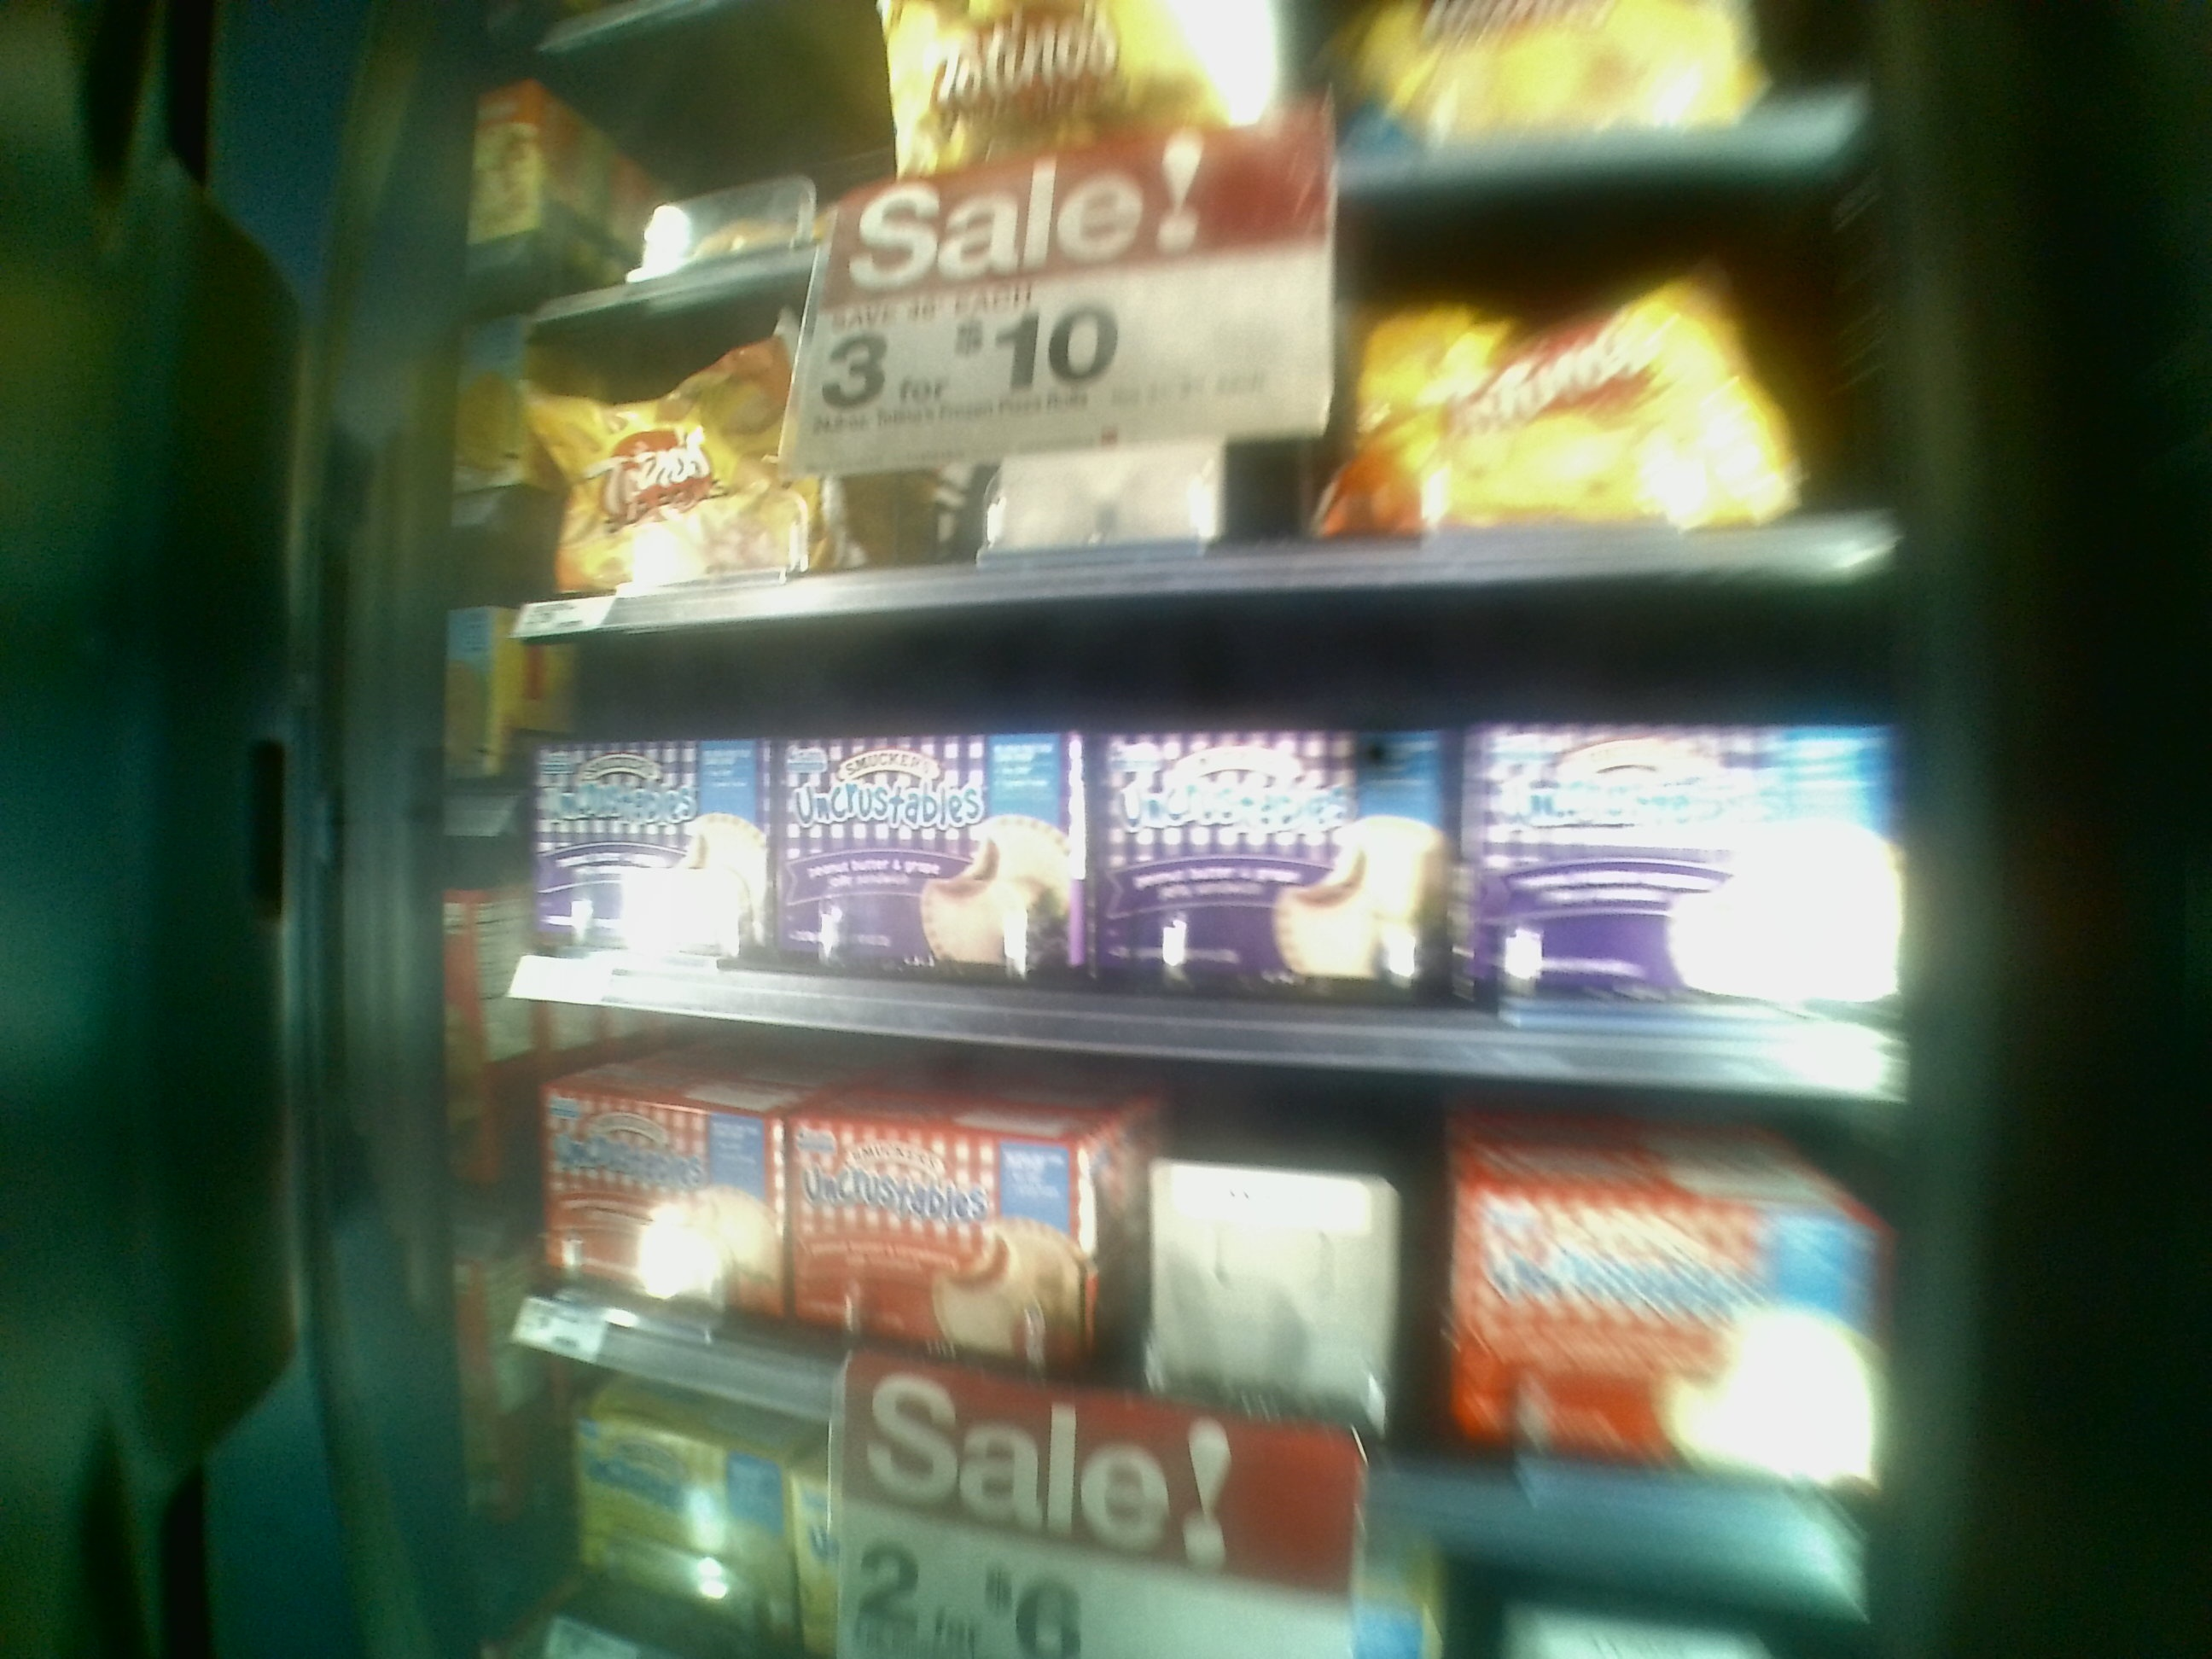shelf: (503, 1049, 1881, 1506), (531, 605, 1853, 1060), (517, 282, 1869, 582)
